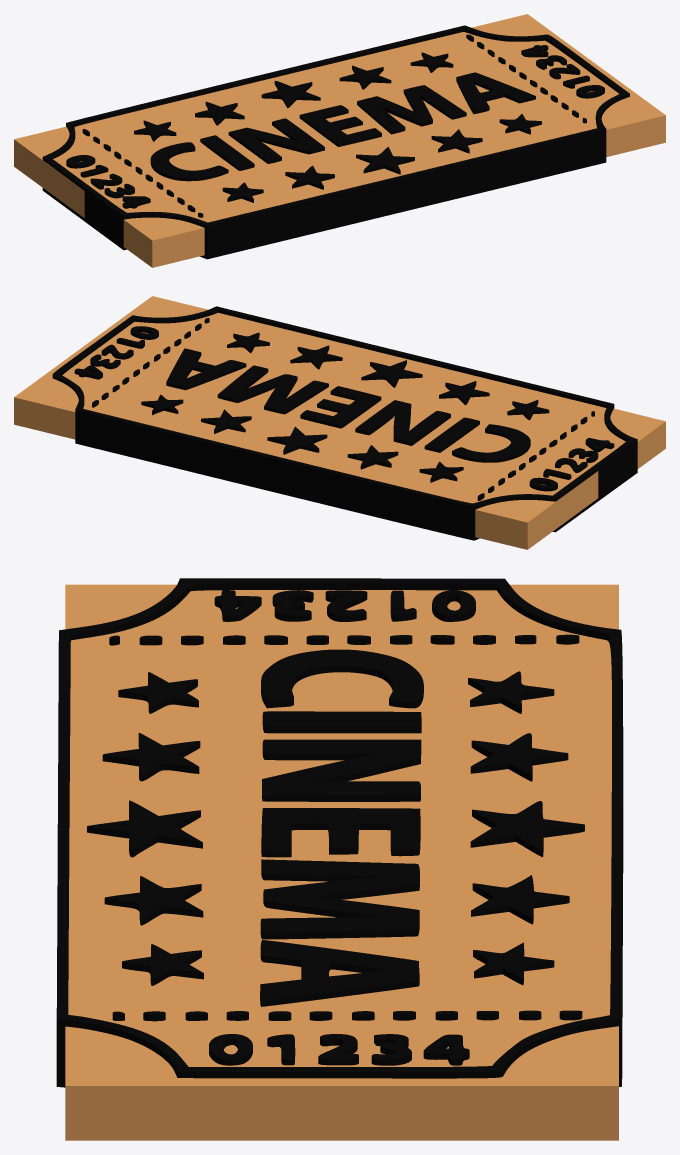
The model's file is ticket.glb.
3 views of the same model, one above another, from view 1: azimuth 30°, elevation 25°; view 2: azimuth 150°, elevation 25°; view 3: azimuth 270°, elevation 25° (orthographic). The views are drawn at different scales.
Visible parts, largest first — view 1: Cube, Curve; view 2: Cube, Curve; view 3: Cube, Curve.
Part boxes in pixels (box(x1,y1,x2,y2)): Cube: box(14, 14, 665, 267); Curve: box(42, 25, 629, 259); Cube: box(14, 296, 665, 549); Curve: box(52, 306, 637, 540); Cube: box(65, 584, 618, 1140); Curve: box(56, 578, 623, 1087).
Size of the model in its own units: 0.825 by 0.0518 by 0.3939.
